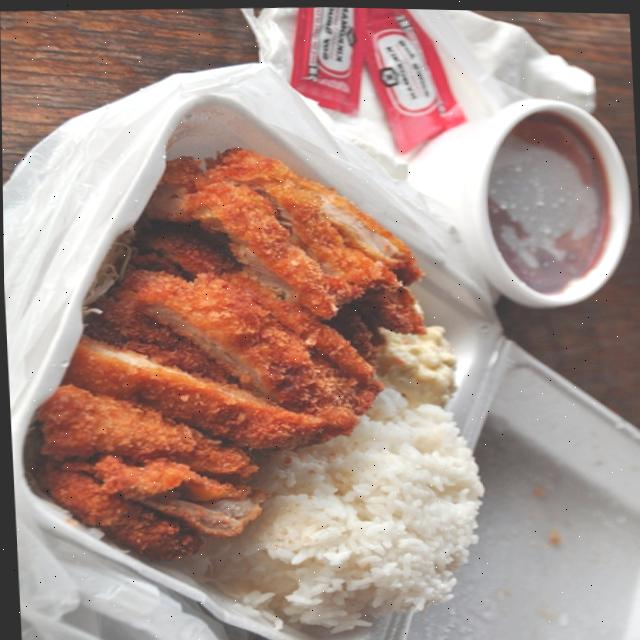鸡肉料理 含炸鸡: (15, 86, 483, 613)
